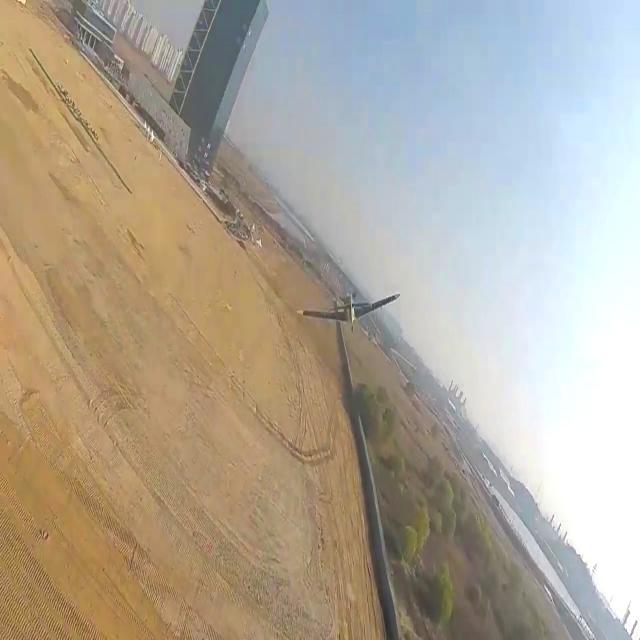iha: (338, 285, 364, 333)
